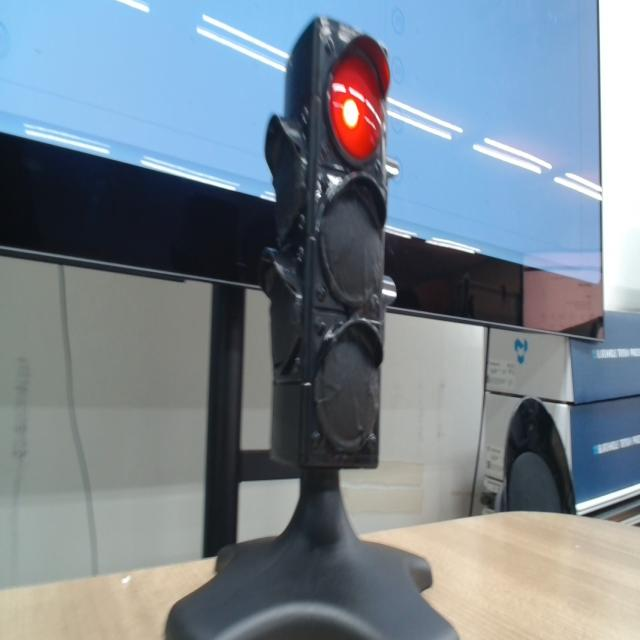red_light: (329, 56, 382, 160)
